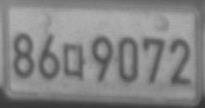0: (117, 36, 139, 83)
2: (169, 37, 191, 85)
6: (37, 33, 60, 79)
7: (142, 37, 166, 83)
8: (12, 33, 35, 79)
9: (90, 35, 114, 82)
다: (63, 42, 86, 80)
